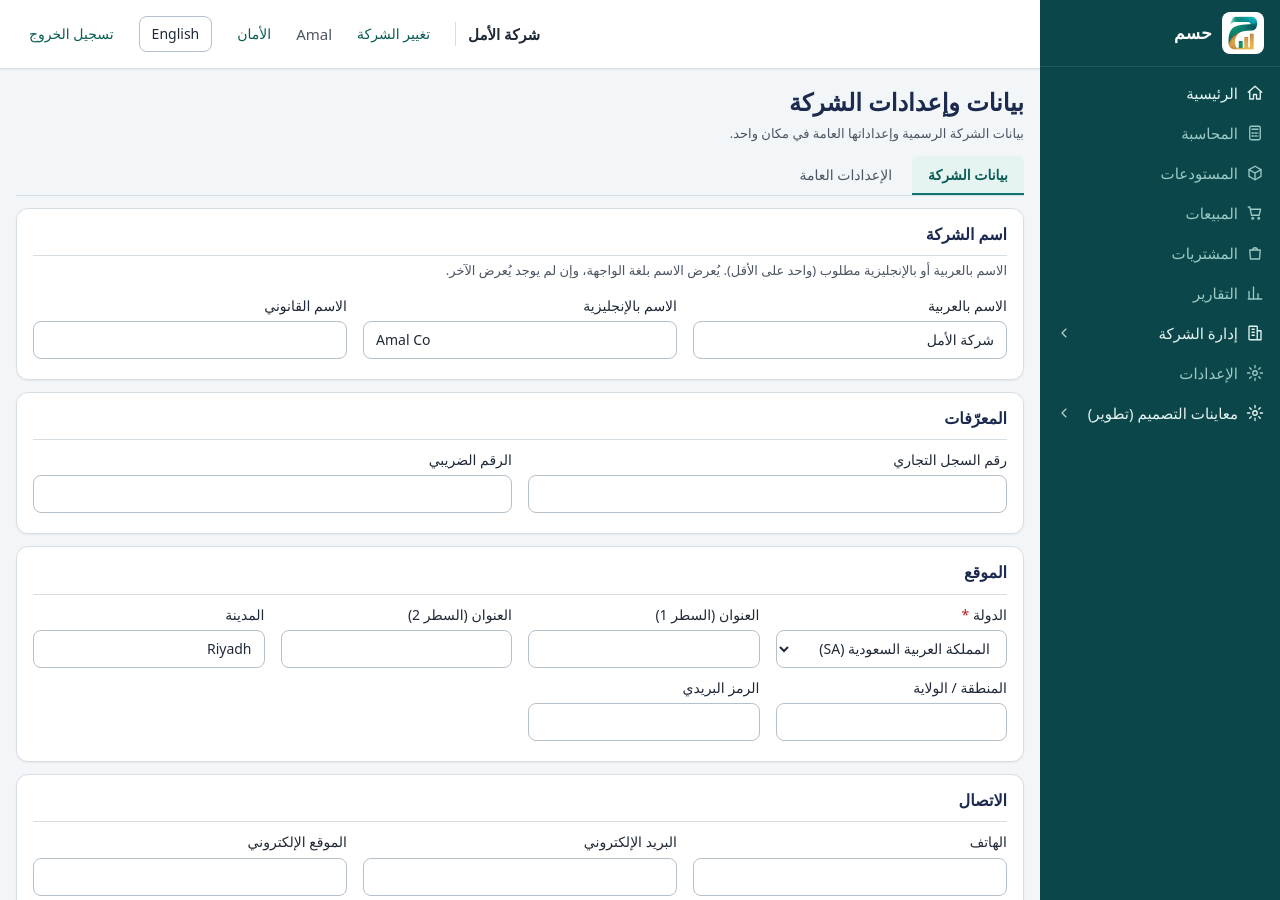
Test case: Windows desktop: native window-close request › pressing X again while the dialog is open does not stack dialogs or loop; Discard then closes exactly once
Expected: the element with test id "company-name" is shown, top-left (455, 22), bottom-right (540, 46)
Replace the text in the field labelled "المدينة" with "Jeddah" at (149, 649), box top-left (33, 630), bottom-right (264, 668)
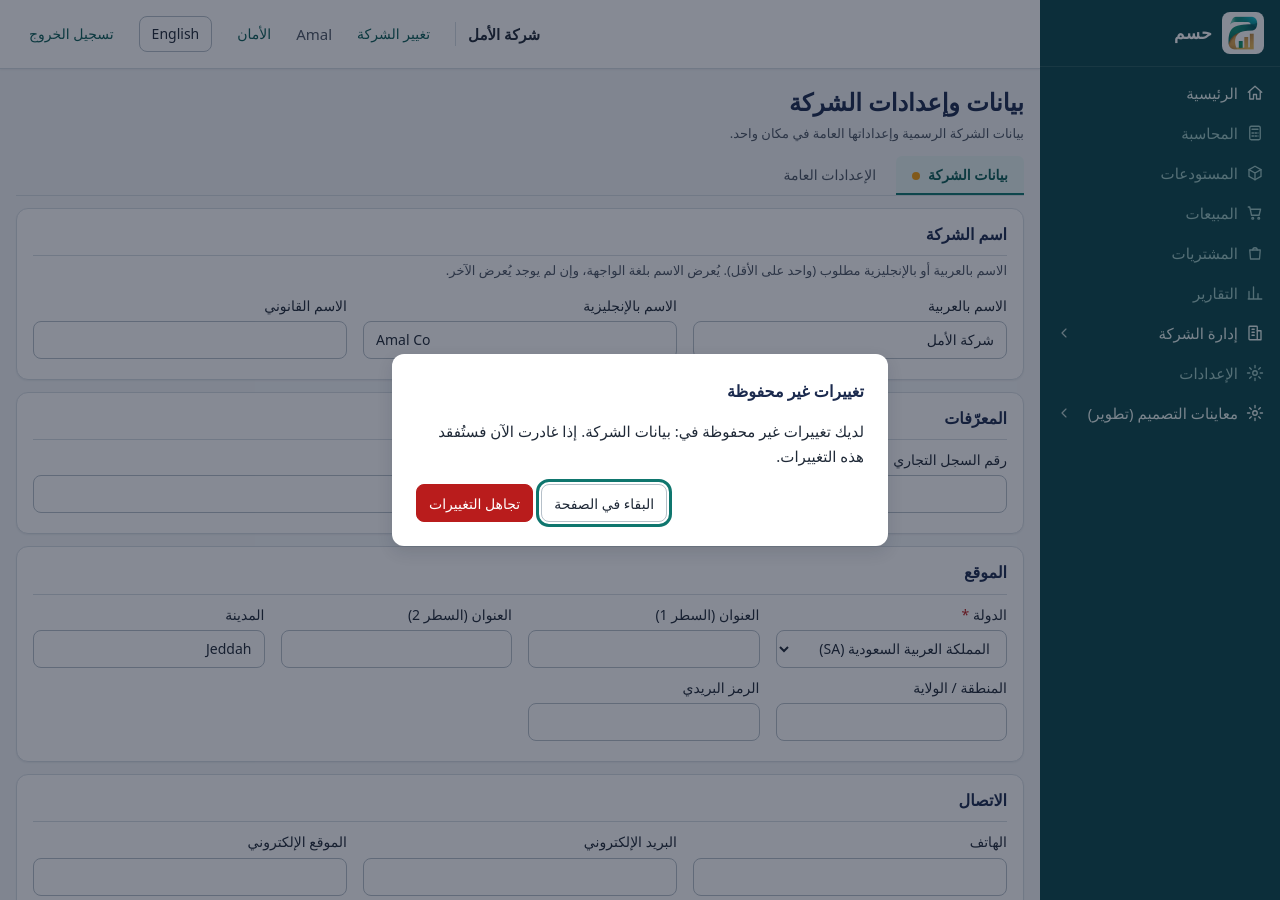
Expected: the number of dialogs is 1, top-left (392, 354), bottom-right (888, 546)
Click the button "تجاهل التغييرات" at (475, 503), box top-left (416, 484), bottom-right (533, 522)
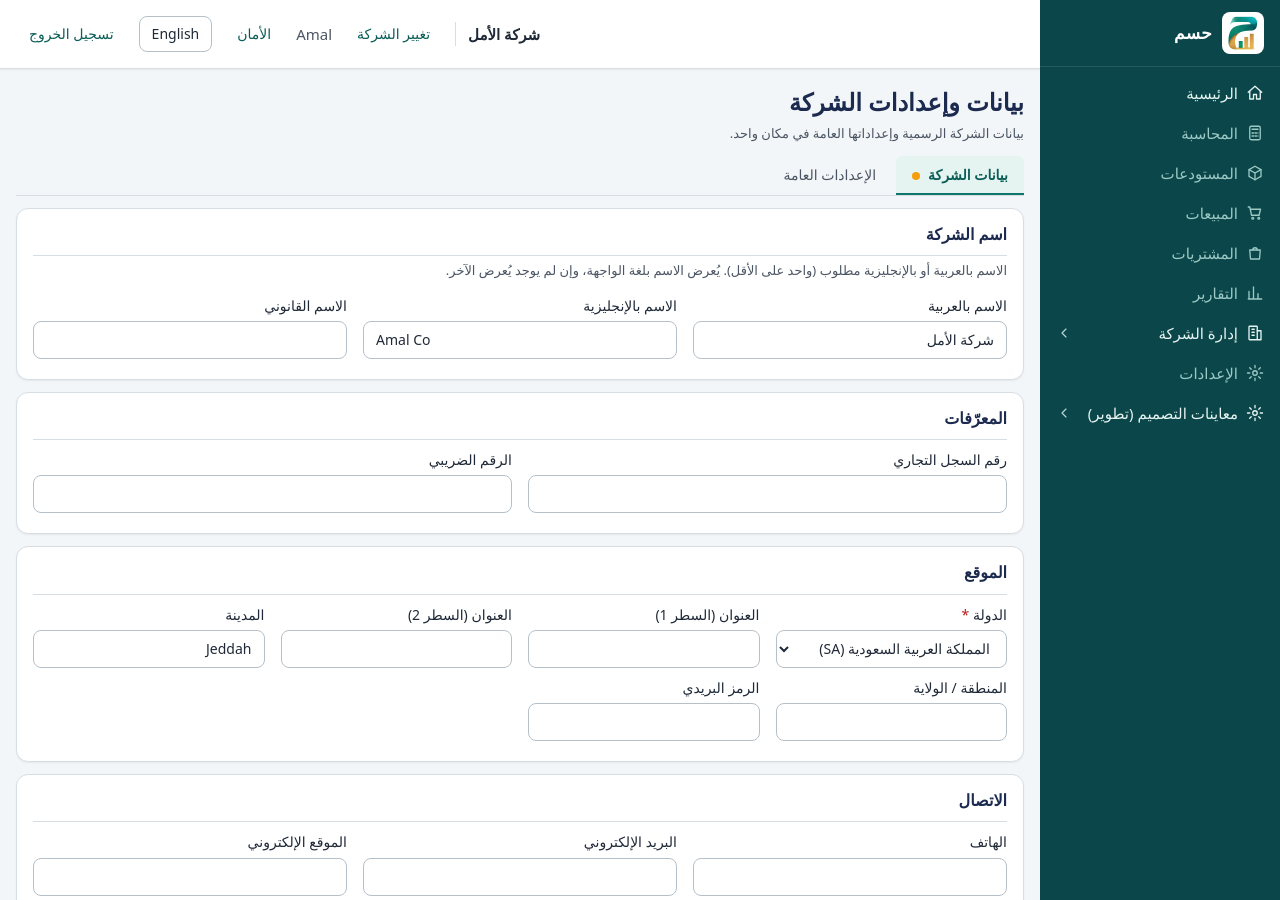
Expected: the dialog is gone
